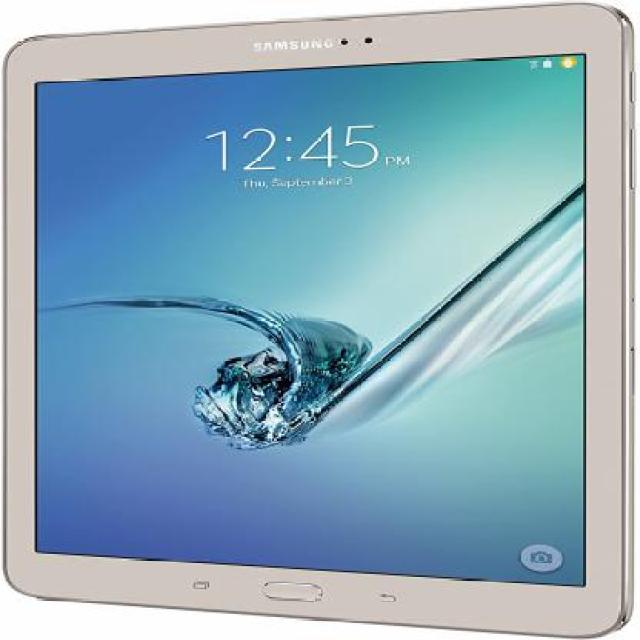tablet: (4, 27, 640, 629)
